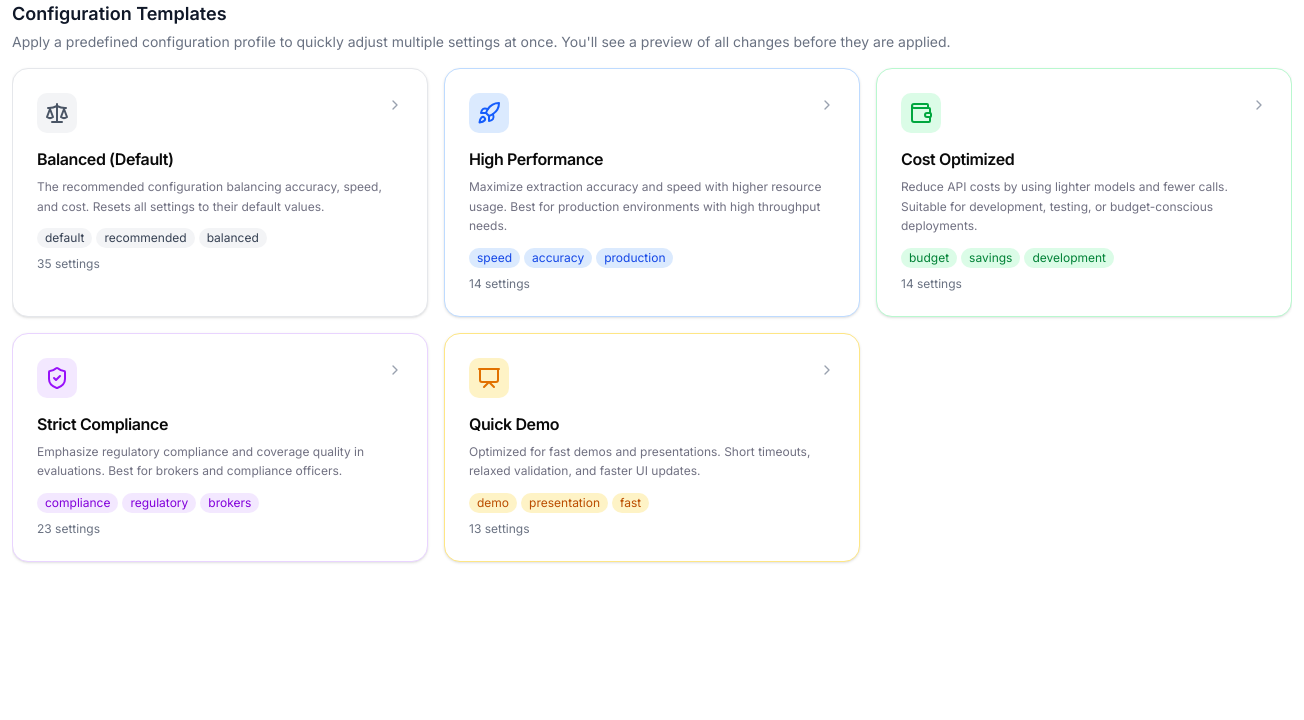
Test: SettingsTemplatesPanel › should show warning for non-balanced templates
Click the heading "High Performance" at (536, 159), box left=469, top=149, right=603, bottom=169
(page scrolled)
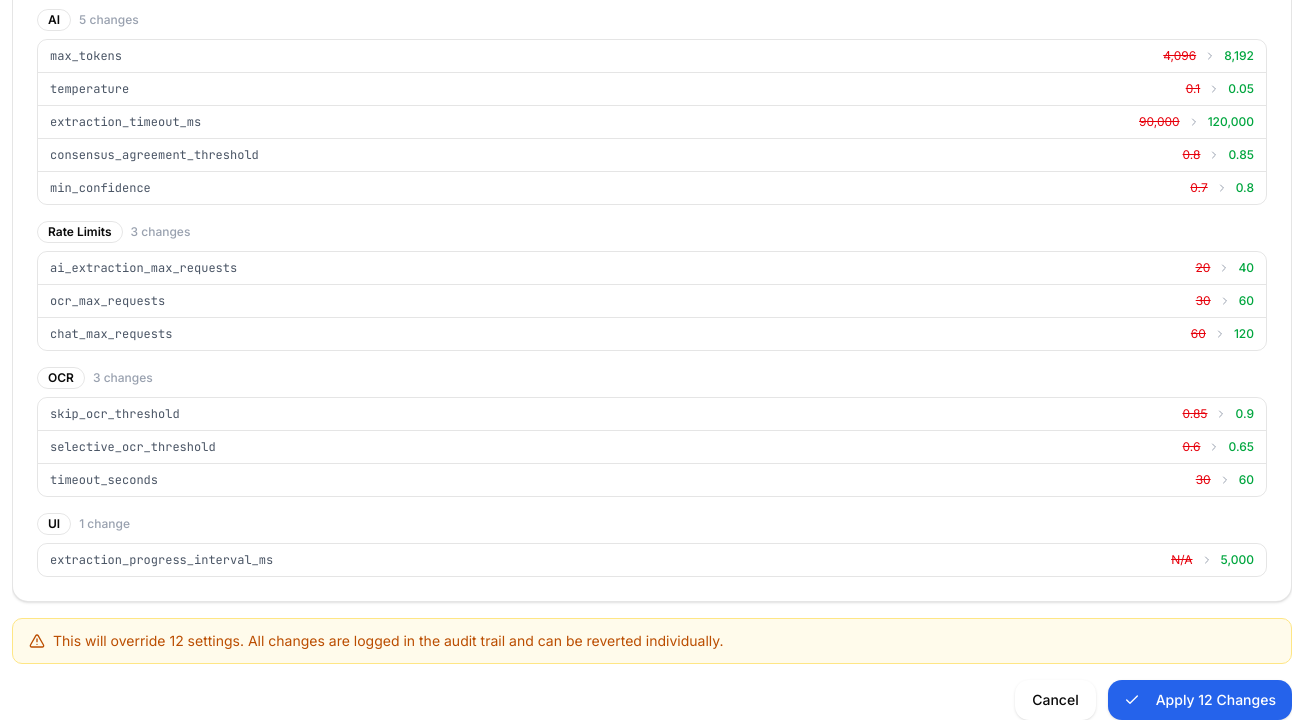
Check: the text "will override" is shown, box left=53, top=632, right=169, bottom=649
Check: the text "logged in the audit trail" is shown, box left=240, top=632, right=724, bottom=649
